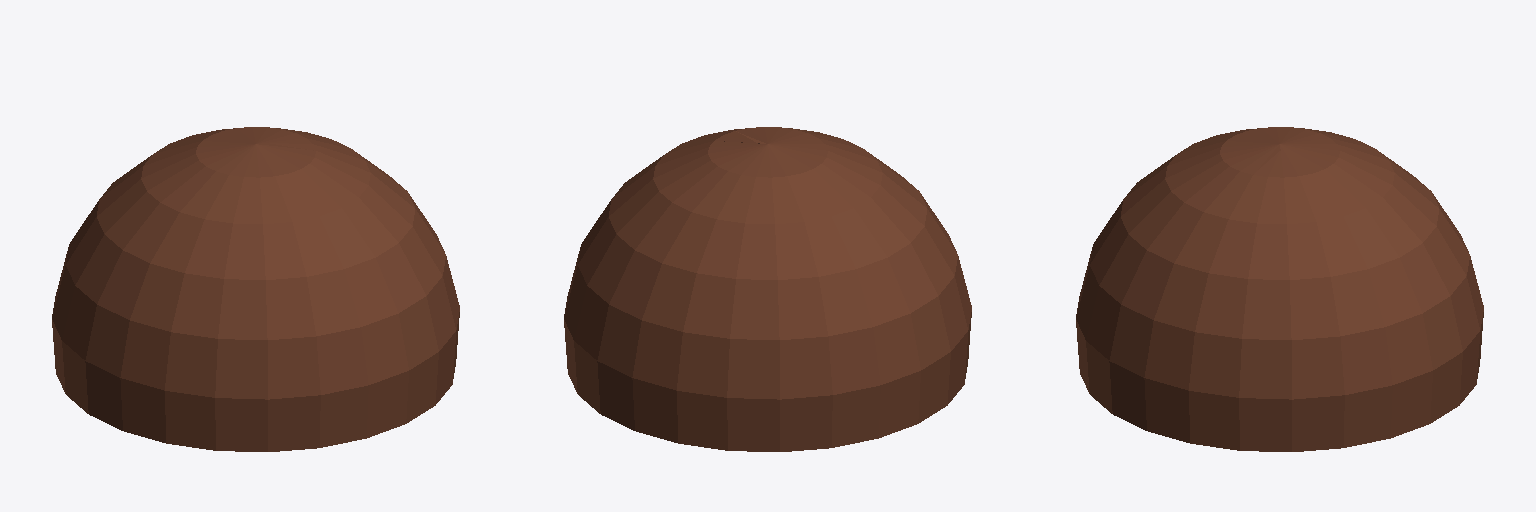
Rendered from original-2.obj.
The picture shows the model from 3 angles: view 1: azimuth 30°, elevation 25°; view 2: azimuth 150°, elevation 25°; view 3: azimuth 270°, elevation 25°; orthographic projection.
Visible parts, largest first — view 1: Group2/mesh2/mesh2-geometry#mesh2-geometry; view 2: Group2/mesh2/mesh2-geometry#mesh2-geometry; view 3: Group2/mesh2/mesh2-geometry#mesh2-geometry.
Boxes of the visible parts, box(x1,y1,x2,y2) form: Group2/mesh2/mesh2-geometry#mesh2-geometry: box(52, 127, 459, 451); Group2/mesh2/mesh2-geometry#mesh2-geometry: box(564, 127, 971, 451); Group2/mesh2/mesh2-geometry#mesh2-geometry: box(1076, 127, 1483, 451).
Size of the model in its own units: 0.135 by 0.0816 by 0.135.